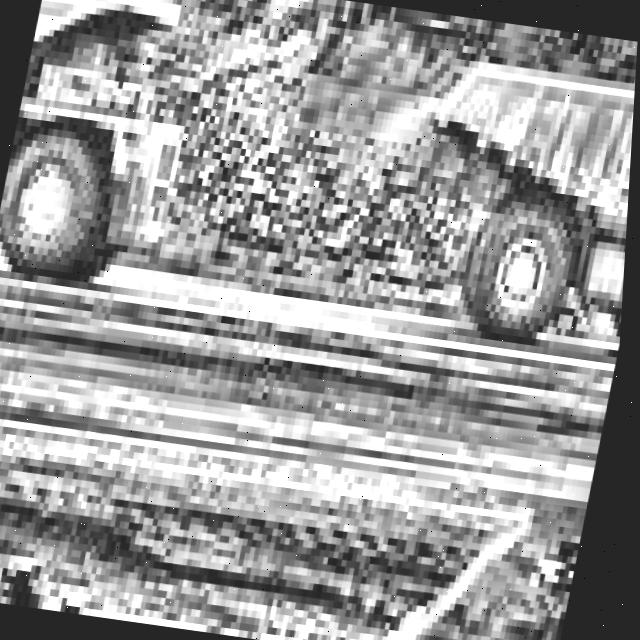dump_truck: (368, 12, 639, 378), (0, 0, 236, 295)
